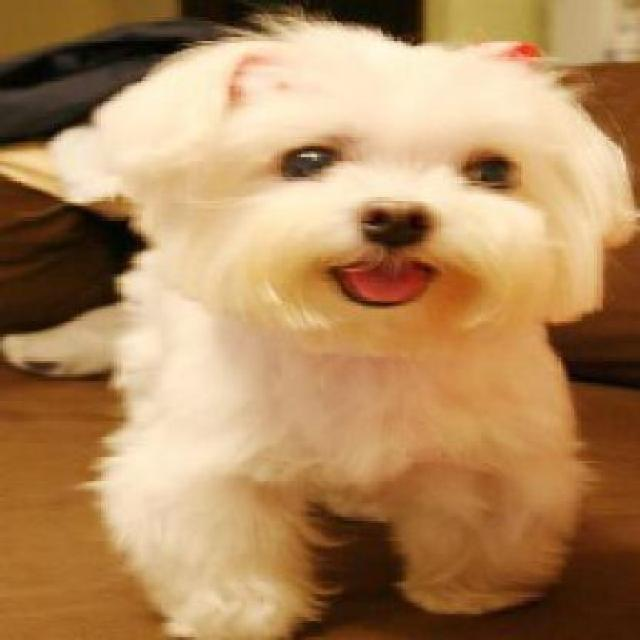Dog: (46, 0, 637, 637)
